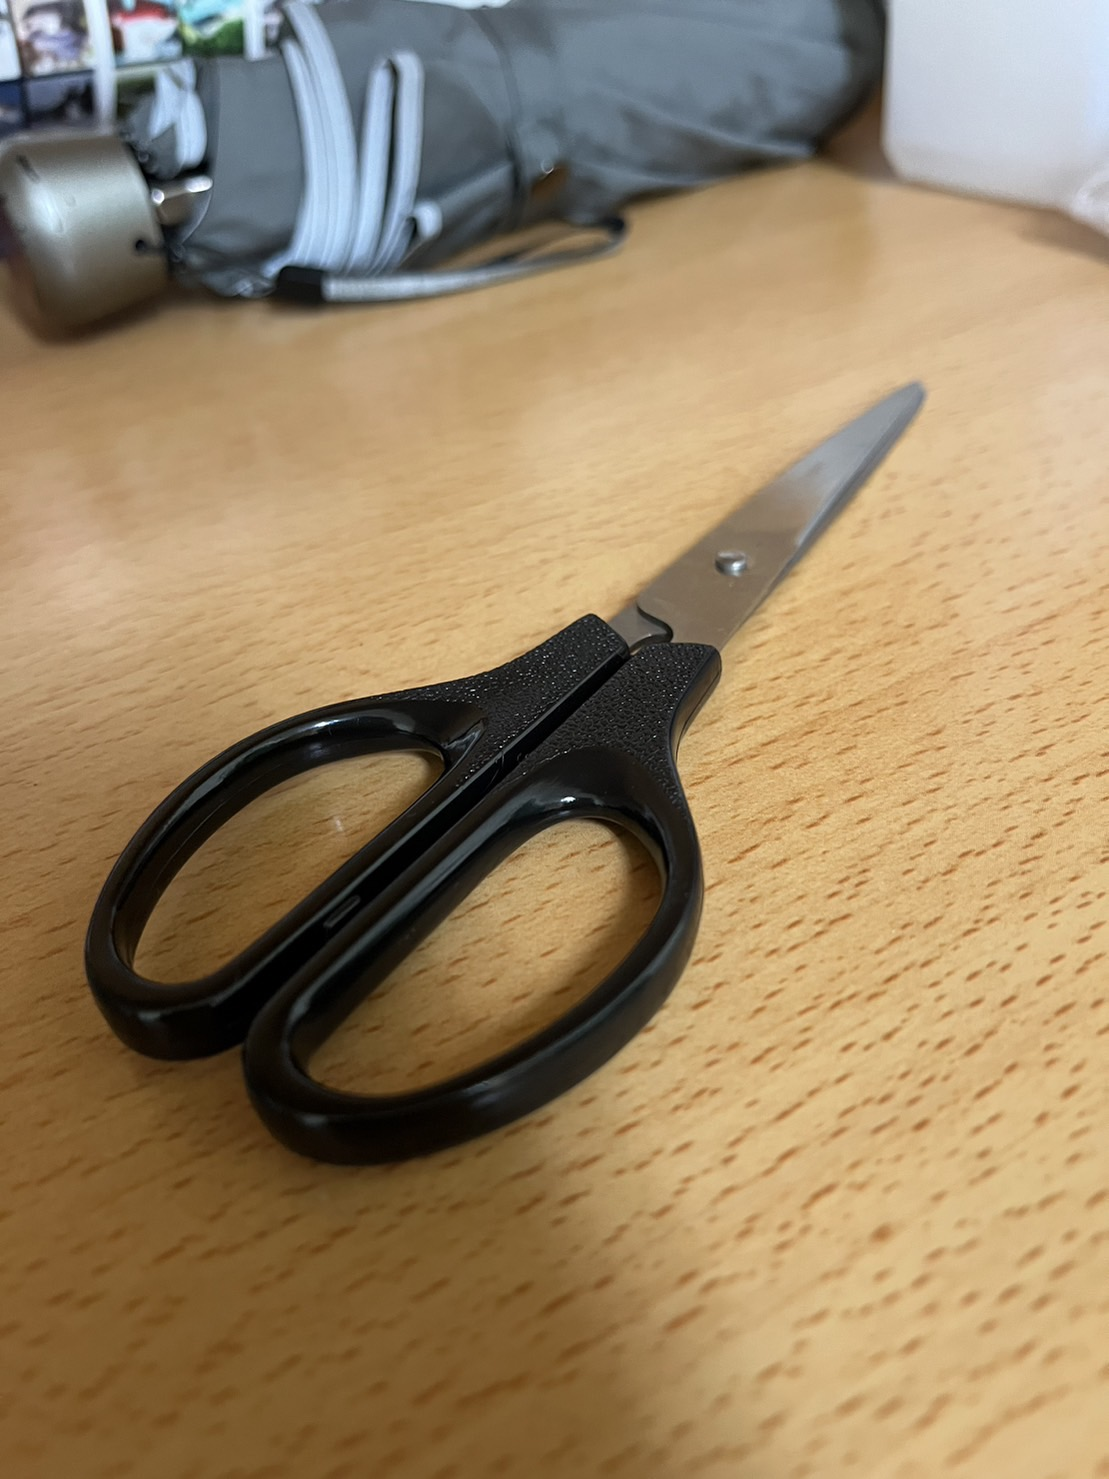scissor: (76, 360, 954, 1231)
